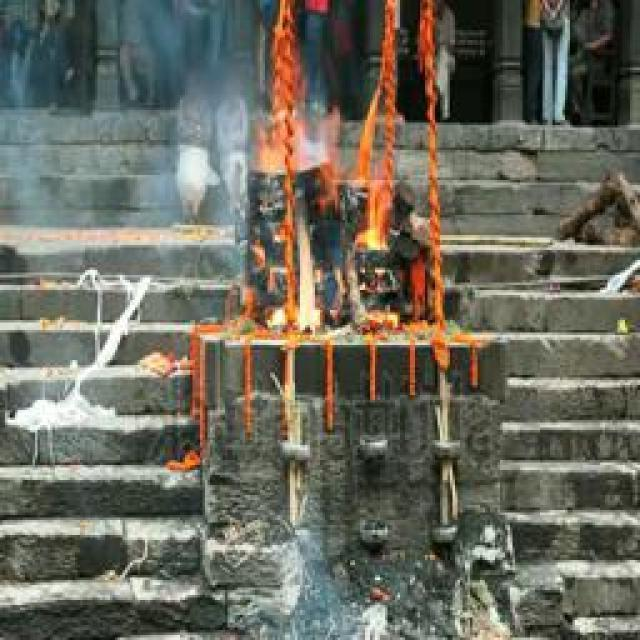Fire: (270, 90, 401, 337)
